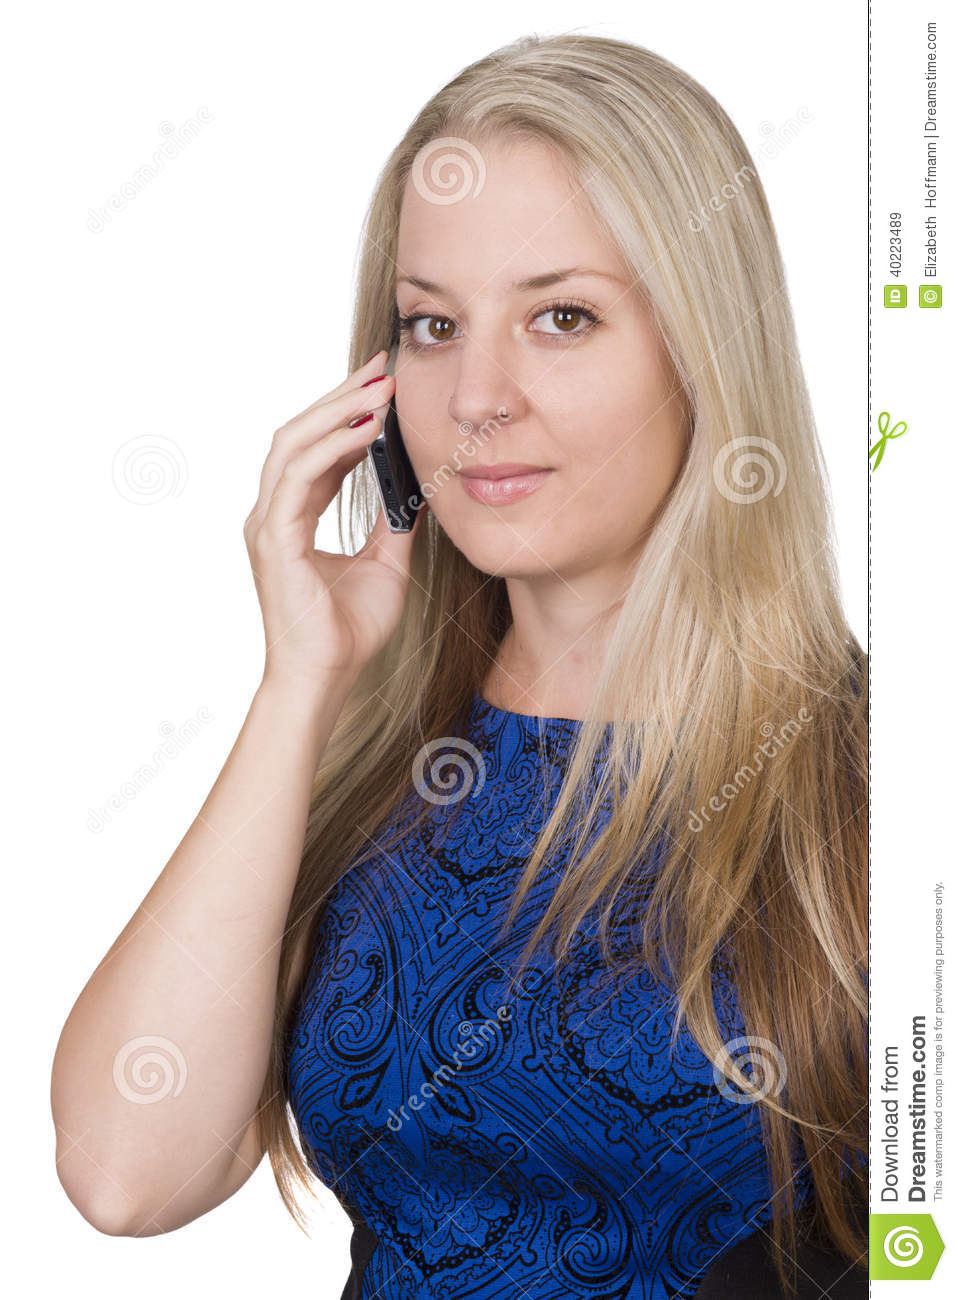phone: (362, 320, 427, 540)
talk: (228, 254, 679, 688)
